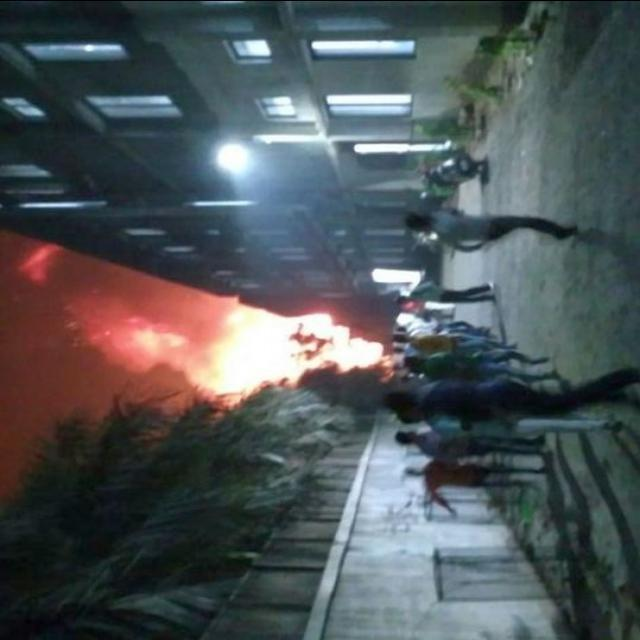Fire: (172, 302, 396, 416), (73, 302, 188, 374)
